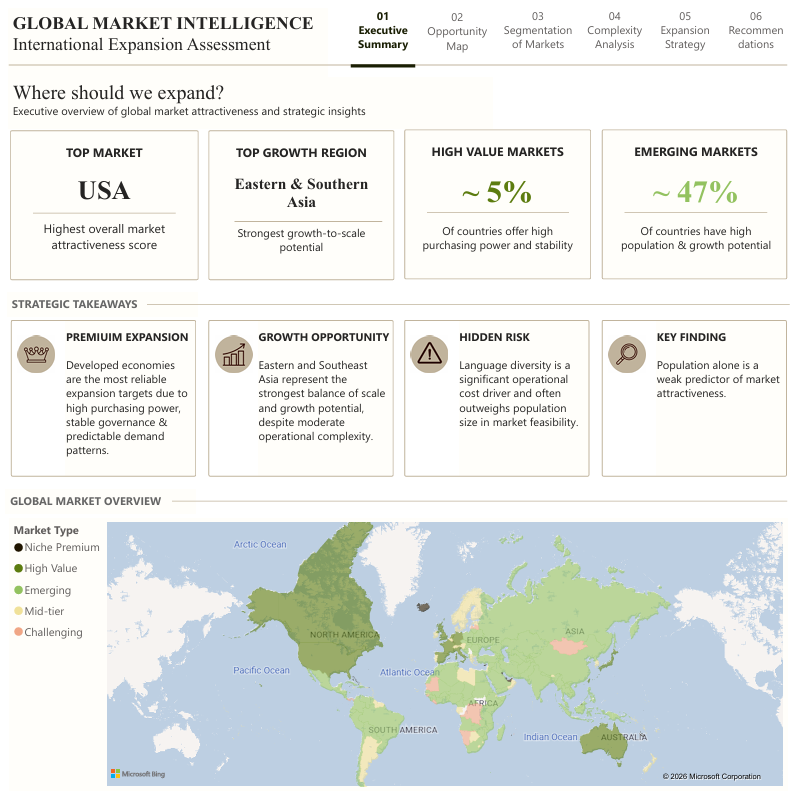

This screenshot's page, from the dashboard's own definition file:
{"tool":"powerbi","page":{"name":"01 Executive Summary","canvas":[960,960],"ordinal":0},"visuals":[{"type":"textbox","box":[8.8,12.9,382.5,82.5],"z":0,"group":"g5"},{"type":"textbox","box":[8.8,95.4,581.2,61.2],"z":0},{"type":"textbox","box":[484.3,158.1,224.5,179.8],"z":0,"group":"g2"},{"type":"textbox","box":[720.8,158.1,225.5,179.8],"z":0,"group":"g3"},{"type":"textbox","box":[11.2,159.2,225.5,179.8],"z":0,"group":"g1"},{"type":"textbox","box":[248.8,159.2,223.4,179.8],"z":0,"group":"g9"},{"type":"textbox","box":[8.1,354.7,229.5,28.2],"z":0,"group":"g4"},{"type":"textbox","box":[549.9,388,156.1,186.6],"z":0,"group":"g10"},{"type":"textbox","box":[786.8,388,156.1,186.6],"z":0,"group":"g11"},{"type":"textbox","box":[309.2,388.2,162.5,186.4],"z":0,"group":"g8"},{"type":"textbox","box":[78,388.3,156.1,186.6],"z":0,"group":"g7"},{"type":"textbox","box":[6.2,589.6,229.5,29.5],"z":0,"group":"g6"},{"type":"actionButton","box":[420,0.4,76.2,81.2],"z":1000,"group":"g5"},{"type":"shape","box":[510.9,236.8,171.2,41.5],"z":1000,"group":"g2"},{"type":"shape","box":[747.6,236.8,172,41.5],"z":1000,"group":"g3"},{"type":"shape","box":[38,237.9,172,41.5],"z":1000,"group":"g1"},{"type":"shape","box":[279.7,248.1,177.7,41.5],"z":1000,"group":"g9"},{"type":"shape","box":[174.9,348.3,771.8,41],"z":1000,"group":"g4"},{"type":"image","box":[492.6,399,45.1,58.5],"z":1000,"group":"g10"},{"type":"image","box":[729.5,399,45.1,58.5],"z":1000,"group":"g11"},{"type":"image","box":[20.7,399.3,45.1,58.5],"z":1000,"group":"g7"},{"type":"image","box":[257.7,399.3,45.1,58.5],"z":1000,"group":"g8"},{"type":"shape","box":[204.9,583.8,739.7,41],"z":1000,"group":"g6"},{"type":"filledMap","title":"Global Market Overview","fields":{"Category":["market_base.Map Hierarchy.Continent","market_base.Map Hierarchy.Region","market_base.Map Hierarchy.CountryName"],"Series":["vv_market_segmentation.market_type"]},"box":[9.5,624.9,934.4,326.7],"z":1000},{"type":"shape","box":[8.8,60.4,935,41.2],"z":2000,"group":"g5"},{"type":"group","id":"g1","title":"cards1","box":[11.2,159.2,225.5,179.8],"z":2000},{"type":"shape","box":[484.3,386.6,222.2,187.7],"z":2000,"group":"g10"},{"type":"shape","box":[721.2,386.6,222.2,187.7],"z":2000,"group":"g11"},{"type":"shape","box":[12.4,386.9,222.2,187.7],"z":2000,"group":"g7"},{"type":"shape","box":[249.4,386.9,222.2,187.7],"z":2000,"group":"g8"},{"type":"actionButton","box":[504.8,1.6,85,81.2],"z":3000,"group":"g5"},{"type":"group","id":"g2","title":"cards3","box":[484.3,158.1,224.5,179.8],"z":3000},{"type":"actionButton","box":[598.3,0.4,91.2,81.2],"z":4000,"group":"g5"},{"type":"group","id":"g3","title":"cards4","box":[720.8,158.1,225.5,179.8],"z":4000},{"type":"actionButton","box":[698,0.4,76.2,81.2],"z":5000,"group":"g5"},{"type":"group","id":"g4","title":"title_stra","box":[8.1,348.3,939.1,40.6],"z":5000},{"type":"group","id":"g5","title":"header","box":[8.8,0.4,935,102.5],"z":6000},{"type":"actionButton","box":[782.8,0.4,76.2,81.2],"z":6000,"group":"g5"},{"type":"actionButton","box":[867.6,0.4,76.2,81.2],"z":7000,"group":"g5"},{"type":"group","id":"g6","title":"title_map","box":[6.2,583.8,937.8,41.1],"z":7000},{"type":"shape","box":[420,60.4,76.2,42.5],"z":8000,"group":"g5"},{"type":"group","id":"g7","title":"stra1","box":[12.4,386.9,222.2,188],"z":8000},{"type":"group","id":"g8","title":"stra2","box":[249.4,386.9,222.3,187.7],"z":9000},{"type":"group","id":"g9","title":"card2","box":[248.8,159.2,223.4,179.8],"z":10000},{"type":"group","id":"g10","title":"stra3","box":[484.3,386.6,221.5,187.7],"z":11000},{"type":"group","id":"g11","title":"stra4","box":[721.2,386.6,221.5,187.7],"z":12000}]}

Visuals, with their boxes in screenshot pixels (x1, y1, x2, y2), scaled from the page's 960x960 canvas onto the 797x801 screenshot:
textbox: 7,11,325,80
textbox: 7,80,490,131
textbox: 402,132,588,282
textbox: 598,132,786,282
textbox: 9,133,197,283
textbox: 207,133,392,283
textbox: 7,296,197,319
textbox: 457,324,586,479
textbox: 653,324,783,479
textbox: 257,324,392,479
textbox: 65,324,194,480
textbox: 5,492,196,517
actionButton: 349,0,412,68
shape: 424,198,566,232
shape: 621,198,763,232
shape: 32,198,174,233
shape: 232,207,380,242
shape: 145,291,786,325
image: 409,333,446,382
image: 606,333,643,382
image: 17,333,55,382
image: 214,333,251,382
shape: 170,487,784,521
"Global Market Overview" filledMap: 8,521,784,794
shape: 7,50,784,85
"cards1" group: 9,133,197,283
shape: 402,323,587,479
shape: 599,323,783,479
shape: 10,323,195,479
shape: 207,323,392,479
actionButton: 419,1,490,69
"cards3" group: 402,132,588,282
actionButton: 497,0,572,68
"cards4" group: 598,132,786,282
actionButton: 579,0,643,68
"title_stra" group: 7,291,786,324
"header" group: 7,0,784,86
actionButton: 650,0,713,68
actionButton: 720,0,784,68
"title_map" group: 5,487,784,521
shape: 349,50,412,86
"stra1" group: 10,323,195,480
"stra2" group: 207,323,392,479
"card2" group: 207,133,392,283
"stra3" group: 402,323,586,479
"stra4" group: 599,323,783,479
